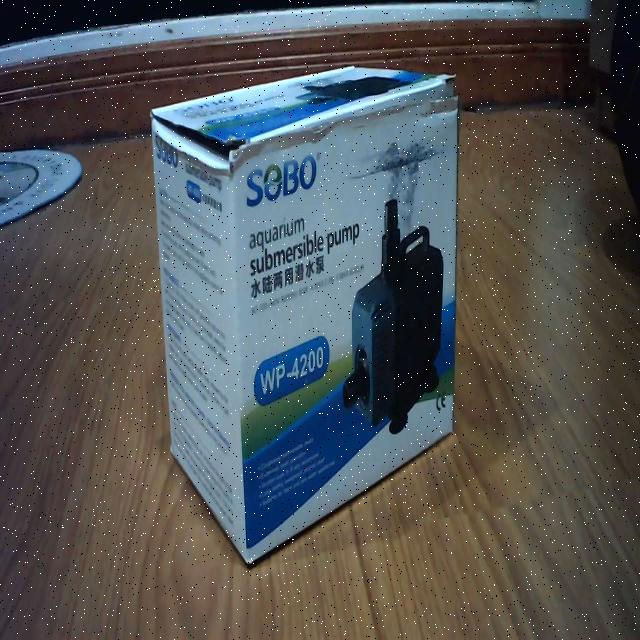SOBO_WP_4200: (150, 52, 466, 568)
